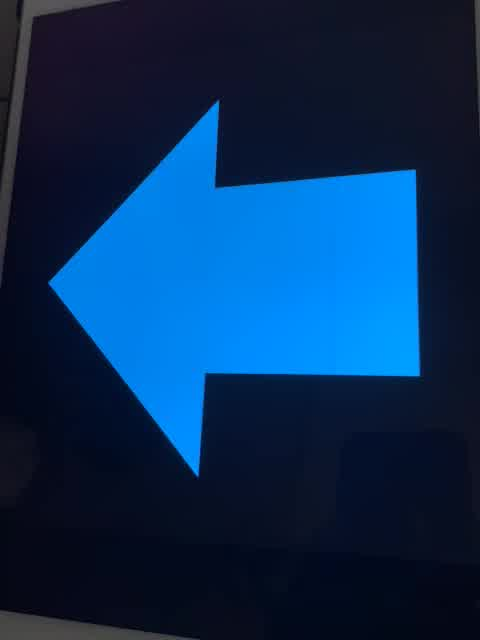left: (43, 87, 433, 484)
